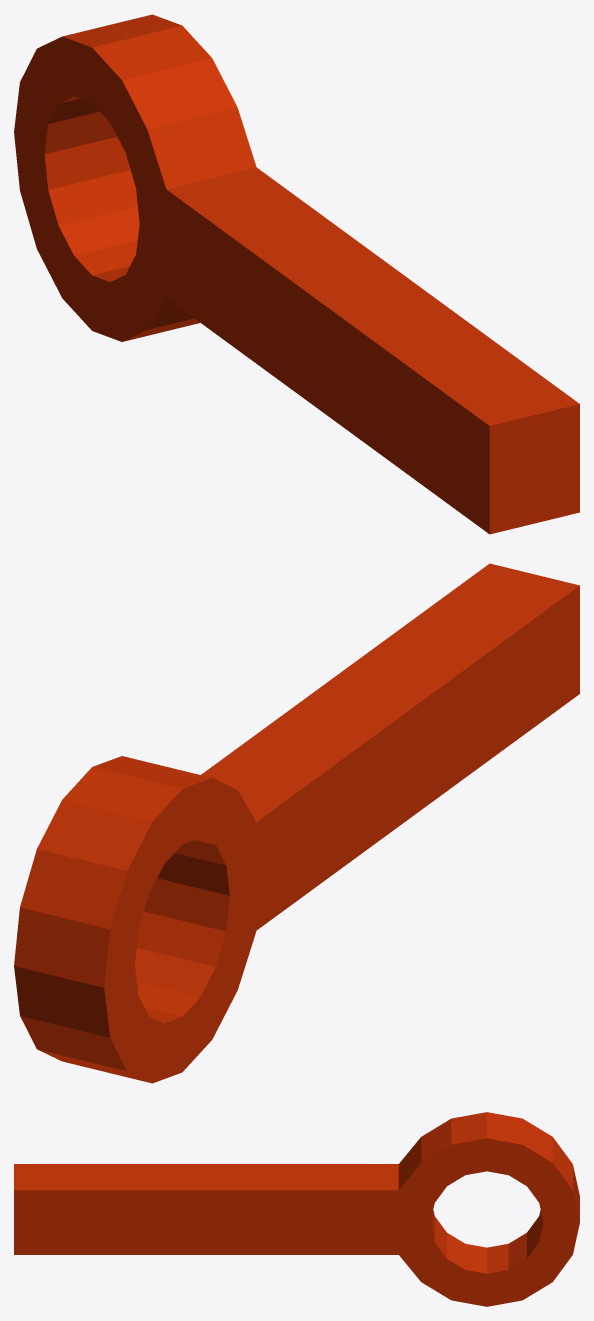
Rendered from connecting_rod.obj.
3 views of the same model, one above another, from view 1: azimuth 30°, elevation 25°; view 2: azimuth 150°, elevation 25°; view 3: azimuth 270°, elevation 25° (orthographic). The views are drawn at different scales.
Parts seen in each view (by area): view 1: connecting_rod_Cube.011; view 2: connecting_rod_Cube.011; view 3: connecting_rod_Cube.011.
Boxes of the visible parts, x1=… form: connecting_rod_Cube.011: x1=14, y1=14, x2=579, y2=534; connecting_rod_Cube.011: x1=14, y1=563, x2=579, y2=1083; connecting_rod_Cube.011: x1=14, y1=1112, x2=579, y2=1306.
Size of the model in its own units: 0.02 by 0.06 by 0.1826.
